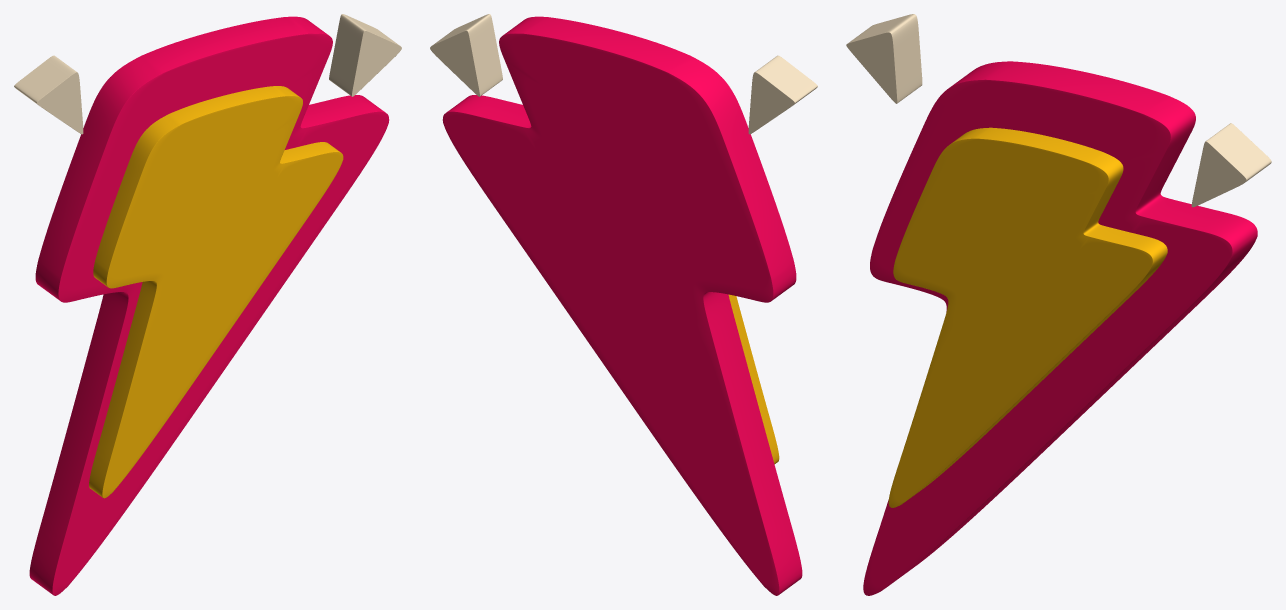
The model's file is thunder.glb.
3 renders of one model, left to right at view 1: azimuth 30°, elevation 25°; view 2: azimuth 150°, elevation 25°; view 3: azimuth 330°, elevation 25°, orthographic. The views are drawn at different scales.
Visible parts, largest first — view 1: thunder_simple; view 2: thunder_simple; view 3: thunder_simple.
Part boxes in pixels (bbox=[...]): thunder_simple: bbox=[14, 14, 401, 595]; thunder_simple: bbox=[430, 14, 817, 595]; thunder_simple: bbox=[846, 14, 1271, 595].
Bounding box in the file's own units: 0.4222 × 0.5733 × 0.0729.
